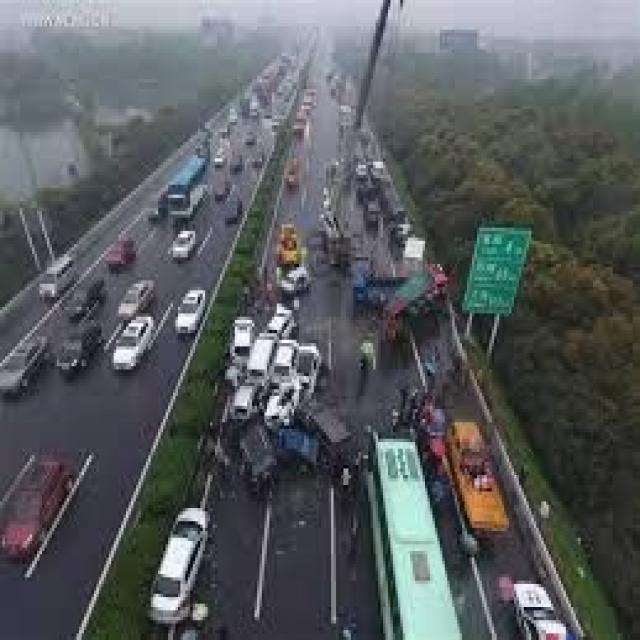traffic_incident: (225, 284, 346, 492)
